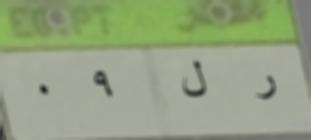0: (35, 76, 52, 100)
9: (91, 66, 115, 102)
laam: (179, 57, 210, 101)
raa: (252, 71, 279, 107)
